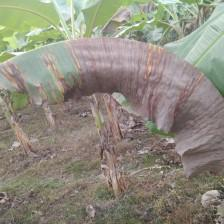sigatoka: (0, 39, 224, 181)
